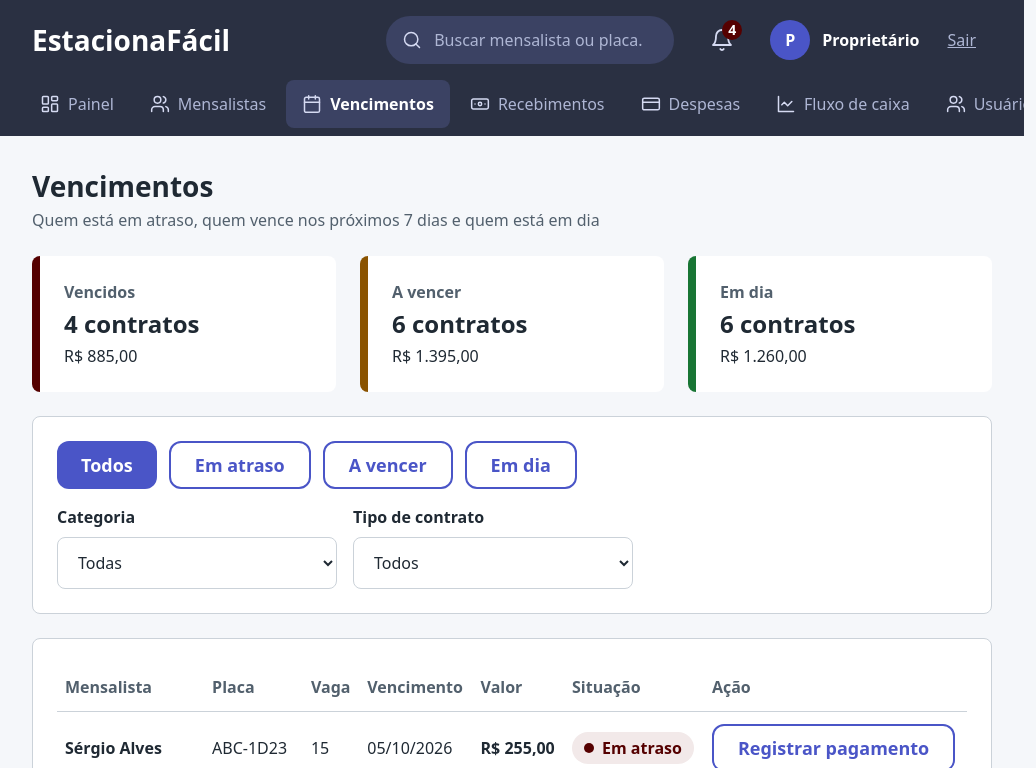
Test: aba Vencimentos › o filtro de categoria atualiza a tabela e os totais
Select "Moto" in the dropdown labelled "Categoria": (197, 563) [57,537,337,589]
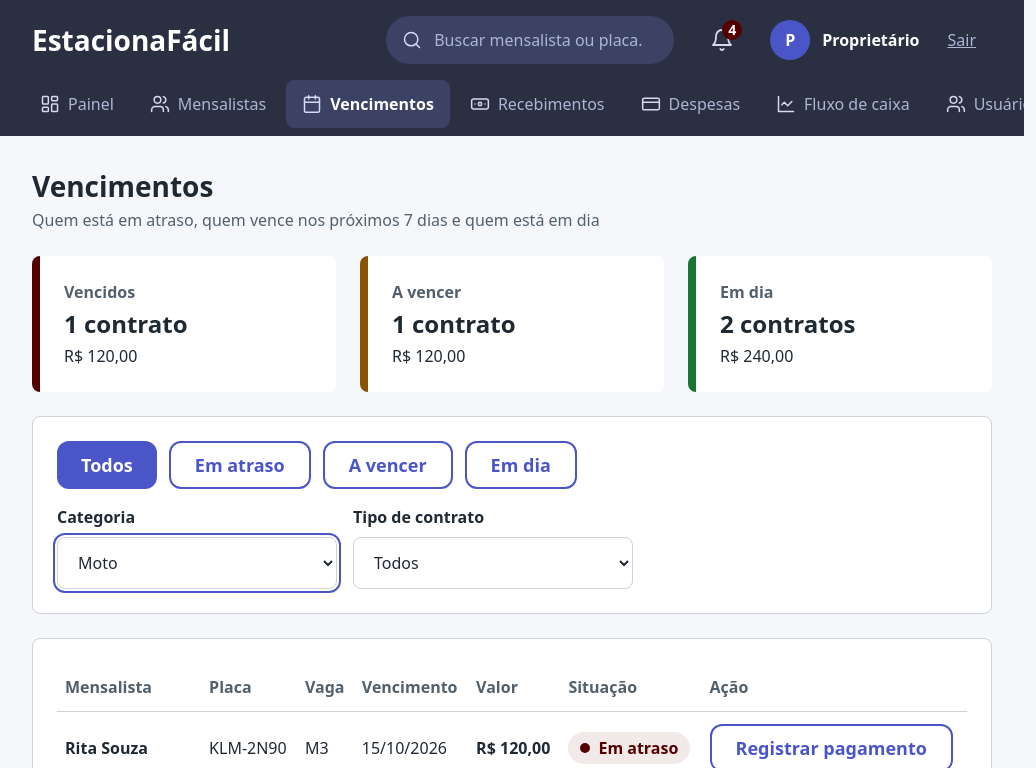
Check: the text "1 contrato" below "Vencidos" is shown, box [64,307,188,340]
